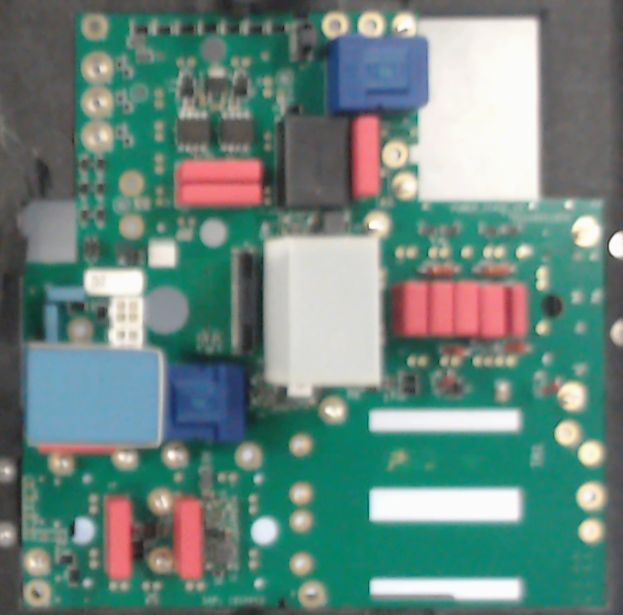comp1: (329, 36, 430, 112), (163, 362, 244, 445)
comp2: (172, 498, 207, 583), (103, 492, 134, 581), (394, 277, 430, 343), (173, 182, 261, 208), (173, 158, 262, 183), (352, 115, 378, 198), (478, 279, 508, 340), (428, 279, 456, 341), (456, 278, 480, 340), (509, 281, 527, 339)
comp3: (277, 113, 351, 210)
comp4: (263, 234, 383, 389), (25, 341, 163, 450)
